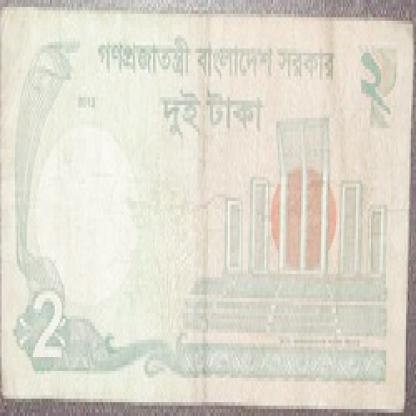two taka: (20, 277, 82, 371), (346, 42, 389, 121)
